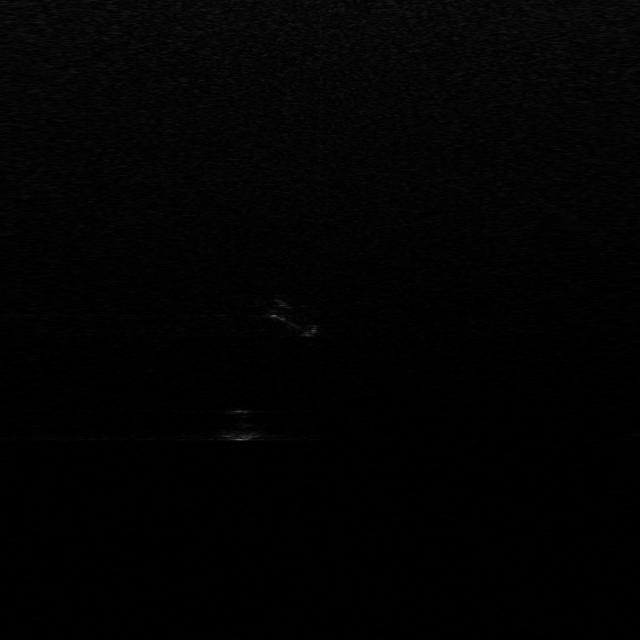ball: (214, 405, 276, 440)
tyre: (266, 297, 324, 338)
